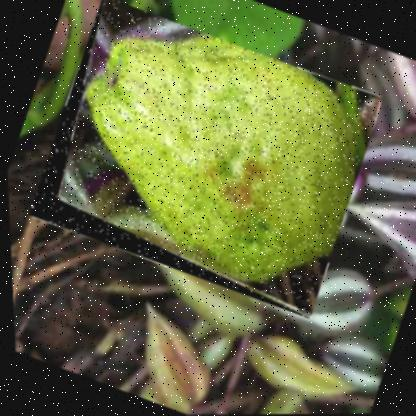guava: (17, 0, 390, 322)
